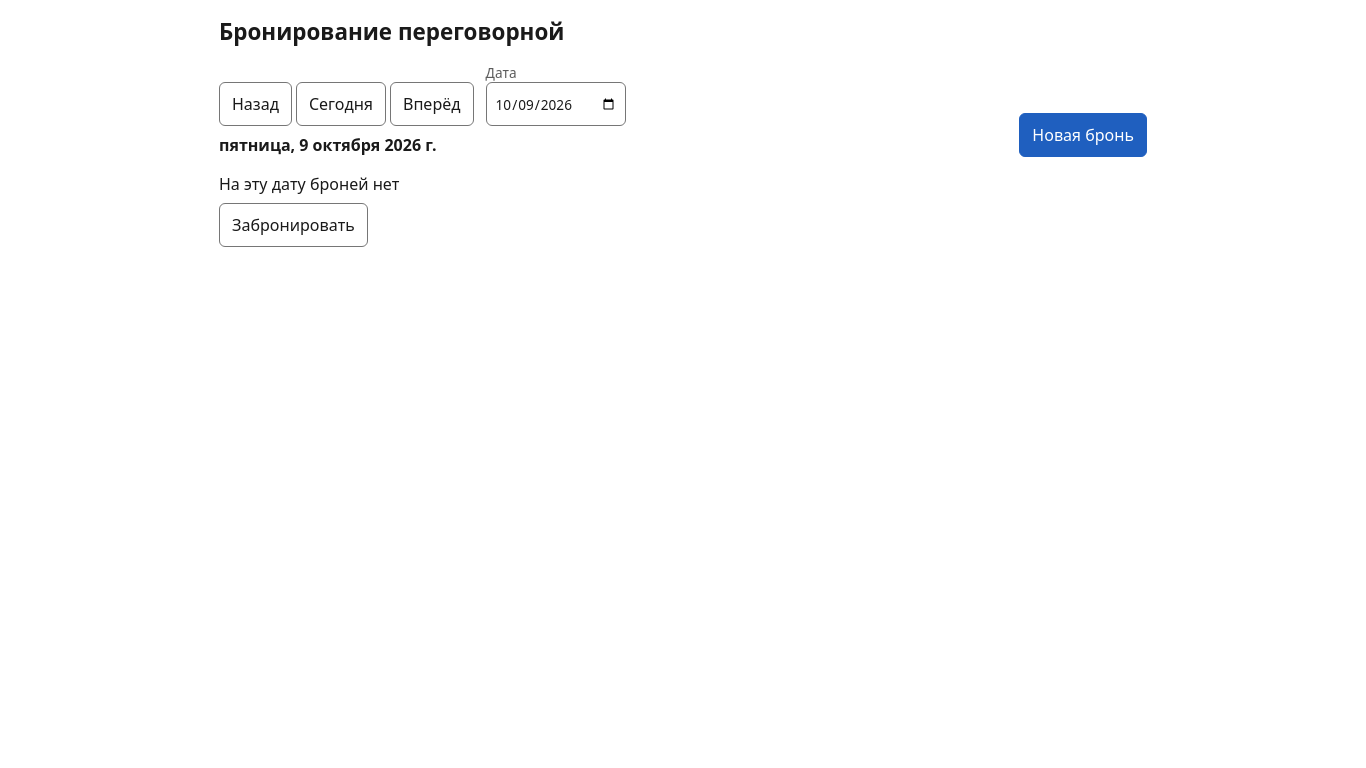
Test: A2: axe — форма брони › A2, F3: открытая пустая форма — нарушений axe 0, role=alert 0
Click the button "Новая бронь": (1083, 135) [1019,113,1147,157]
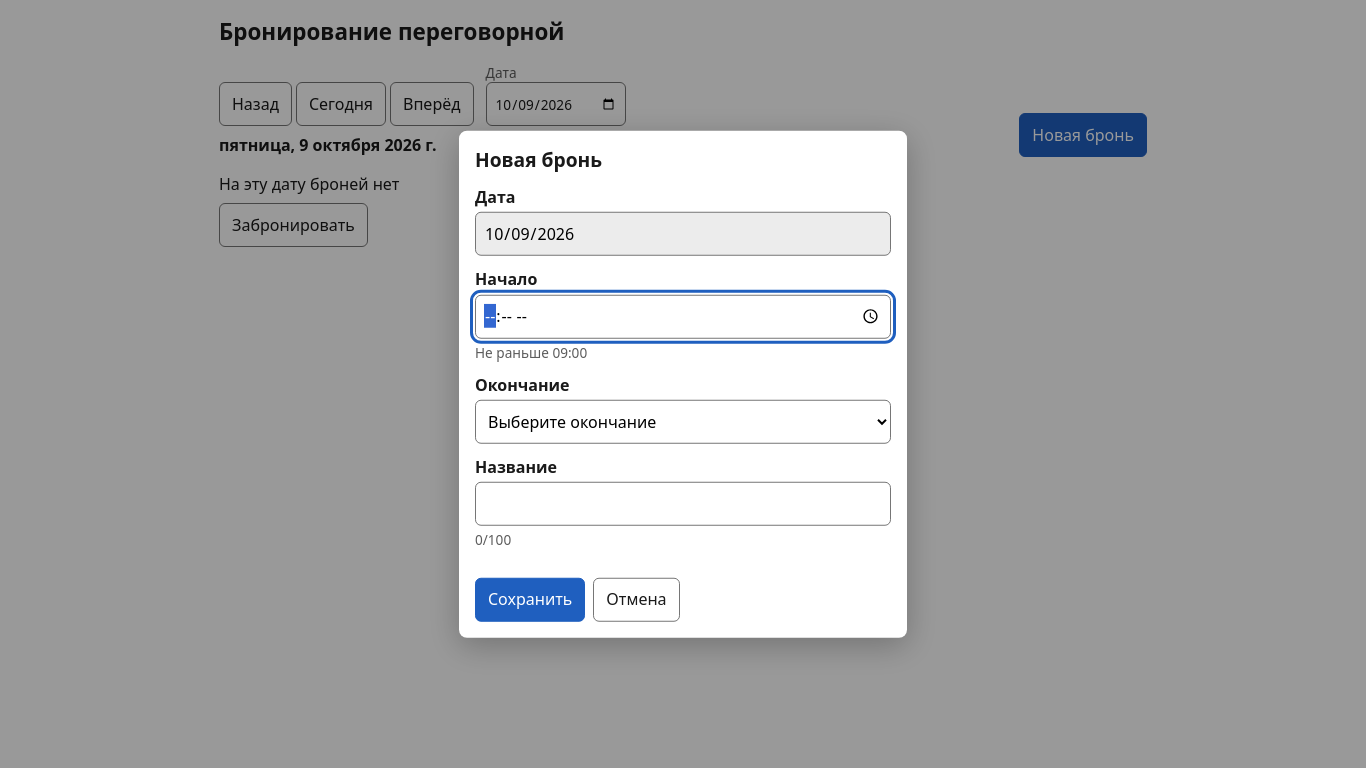
expect the dialog "Новая бронь" is shown: met, box [459,131,907,637]
